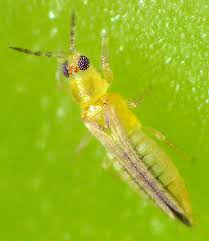Thrips: (48, 29, 201, 229)
